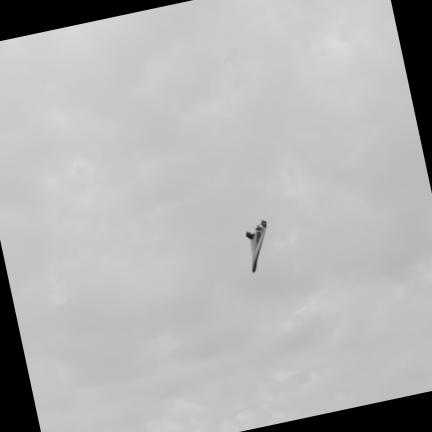Shahed: (246, 220, 266, 272)
